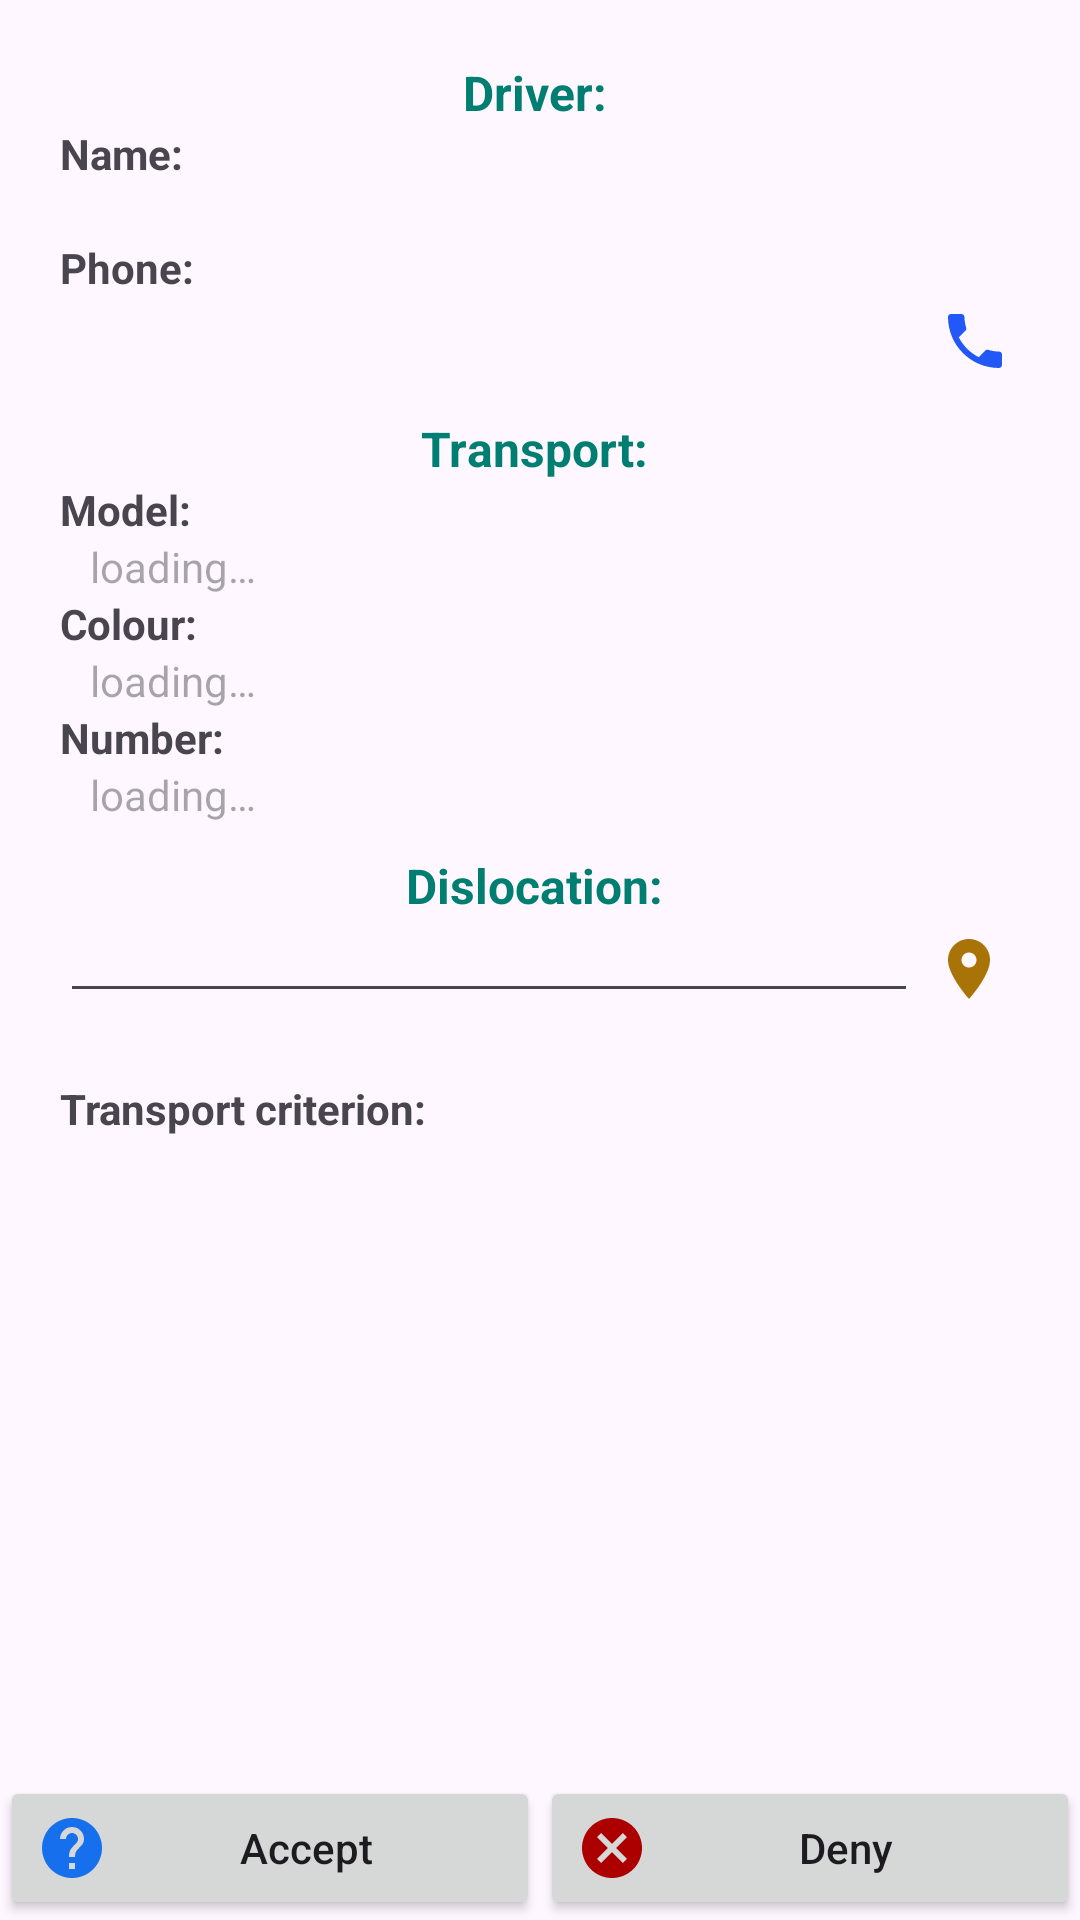

Screen size 1080×1920. Icon name, then its center in pixels as [x,y]:
location on: [969,969]
phone: [975,341]
